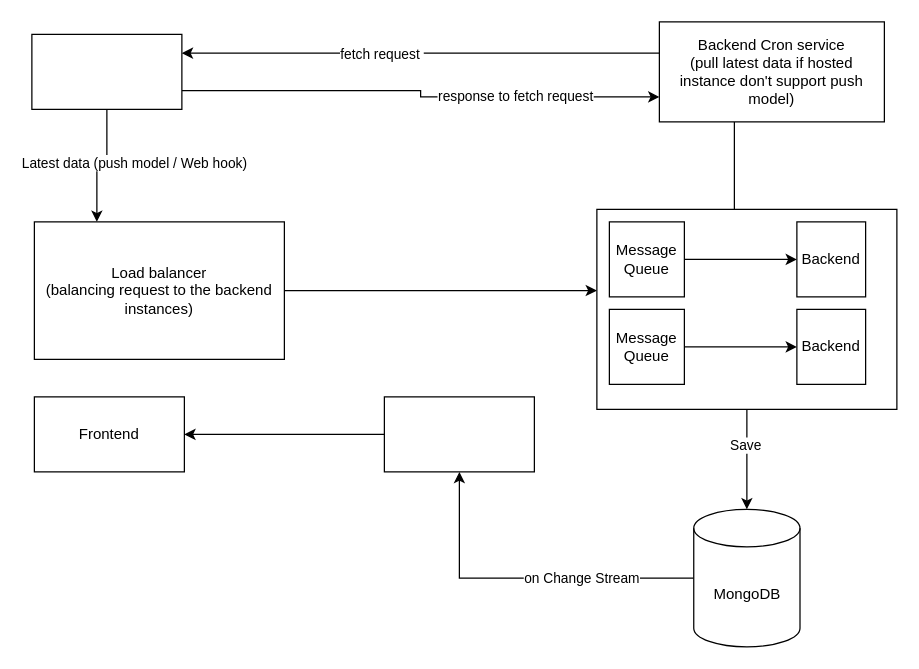
Image size: 919x669. Some labels were removed from this diagram. The centre of each missing label's shape, as x and y in pixels:
"Hosted Instances" belongs at (x=106, y=71).
"WebSocket/SSE (Notification)" belongs at (x=458, y=434).
